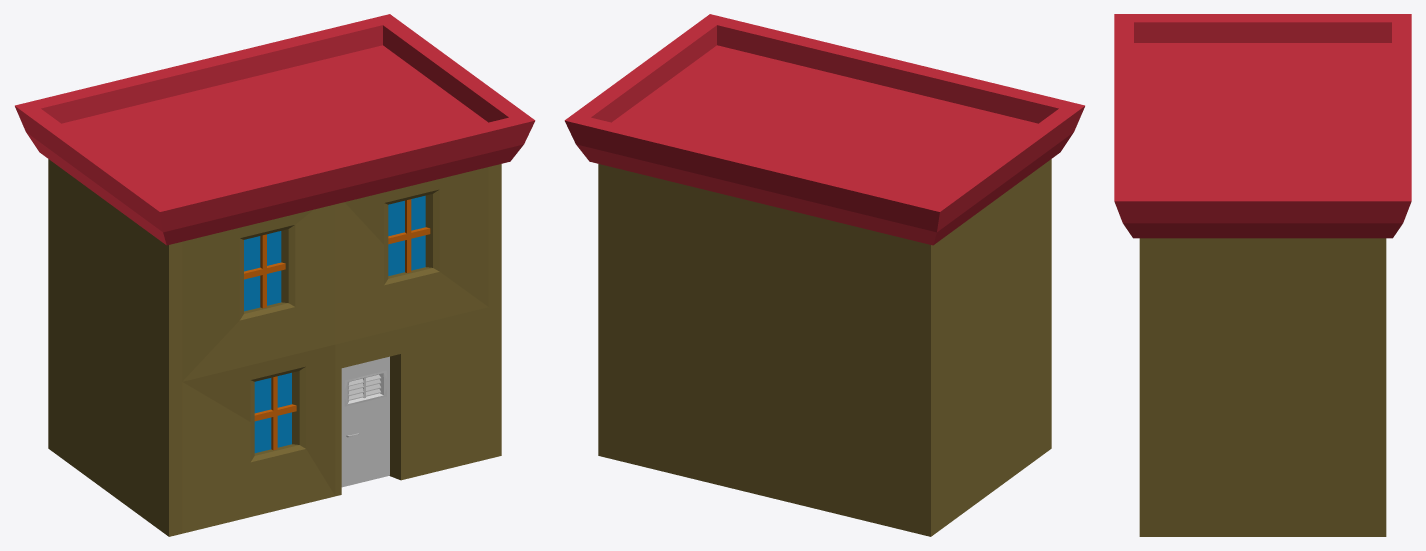
File: House.obj
3 views of the same model, side by side, from view 1: azimuth 30°, elevation 25°; view 2: azimuth 150°, elevation 25°; view 3: azimuth 270°, elevation 25° (orthographic). The views are drawn at different scales.
Parts seen in each view (by area): view 1: Mesh_Walls, Mesh_Roof, Mesh_WindowInner, Mesh_, Mesh_WindowFrame; view 2: Mesh_Walls, Mesh_Roof; view 3: Mesh_Walls, Mesh_Roof.
Part boxes in pixels (x1=…): Mesh_Walls: x1=48, y1=159, x2=501, y2=536; Mesh_Roof: x1=15, y1=14, x2=535, y2=245; Mesh_WindowInner: x1=244, y1=195, x2=425, y2=453; Mesh_: x1=341, y1=356, x2=389, y2=487; Mesh_WindowFrame: x1=244, y1=199, x2=430, y2=450; Mesh_Walls: x1=598, y1=159, x2=1051, y2=536; Mesh_Roof: x1=564, y1=14, x2=1084, y2=245; Mesh_Walls: x1=1139, y1=238, x2=1386, y2=536; Mesh_Roof: x1=1114, y1=14, x2=1411, y2=238.
Size of the model in its own units: 34.86 by 30.09 by 23.41.
